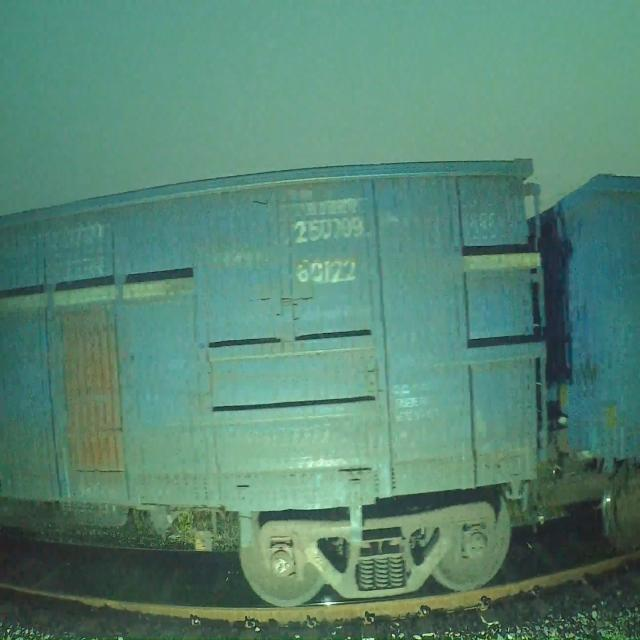WAgon-uic: (0, 156, 540, 609), (494, 173, 640, 546)
uic: (290, 217, 365, 289)
